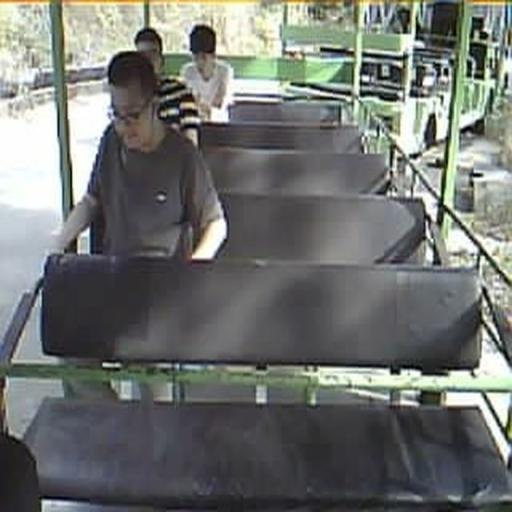persona: (46, 50, 228, 264), (134, 27, 202, 150), (179, 24, 233, 121)
